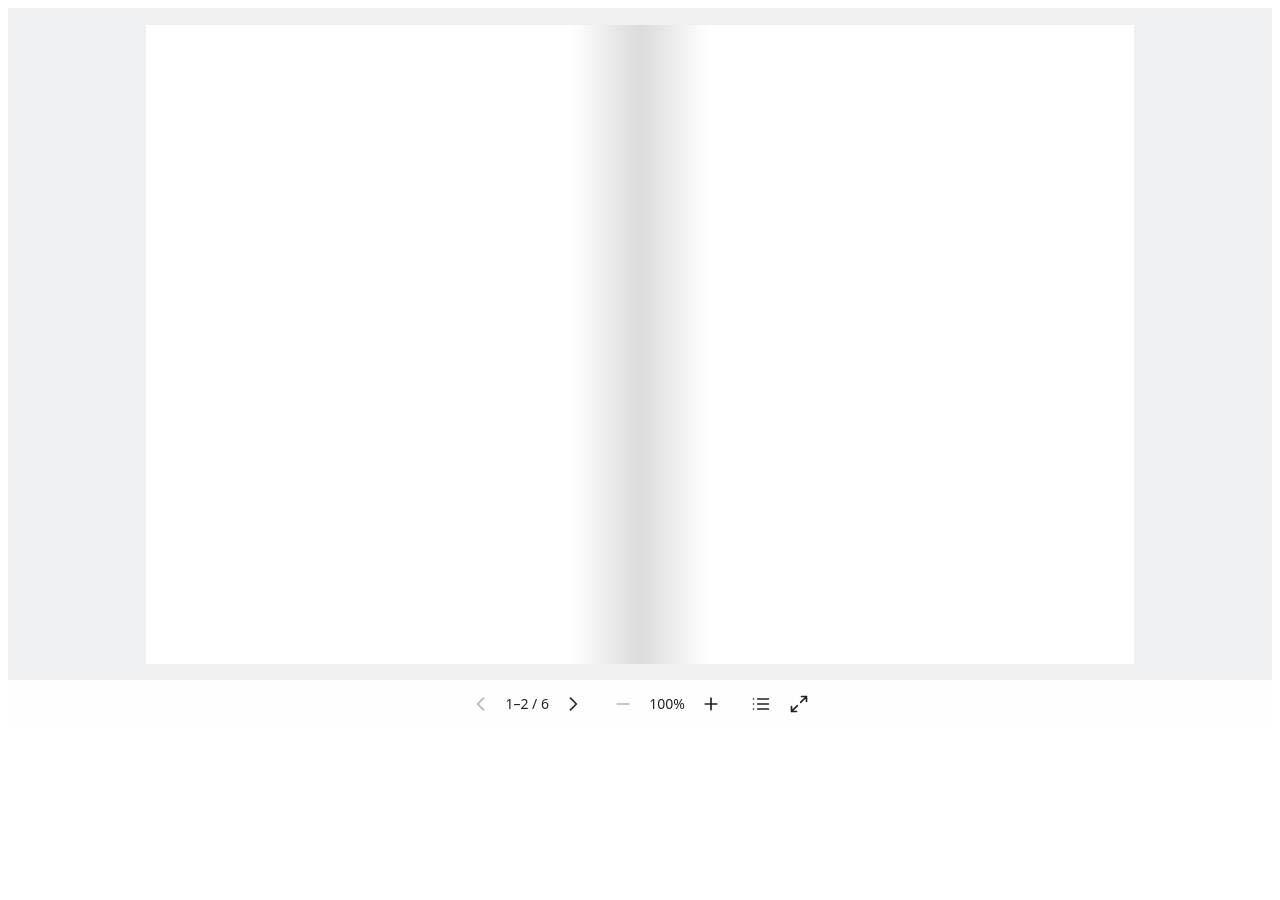
Test: contents panel › shows web entries as safe links and drops unsafe ones
Click the button named "Contents": (761, 704) top-left (743, 686), bottom-right (779, 722)
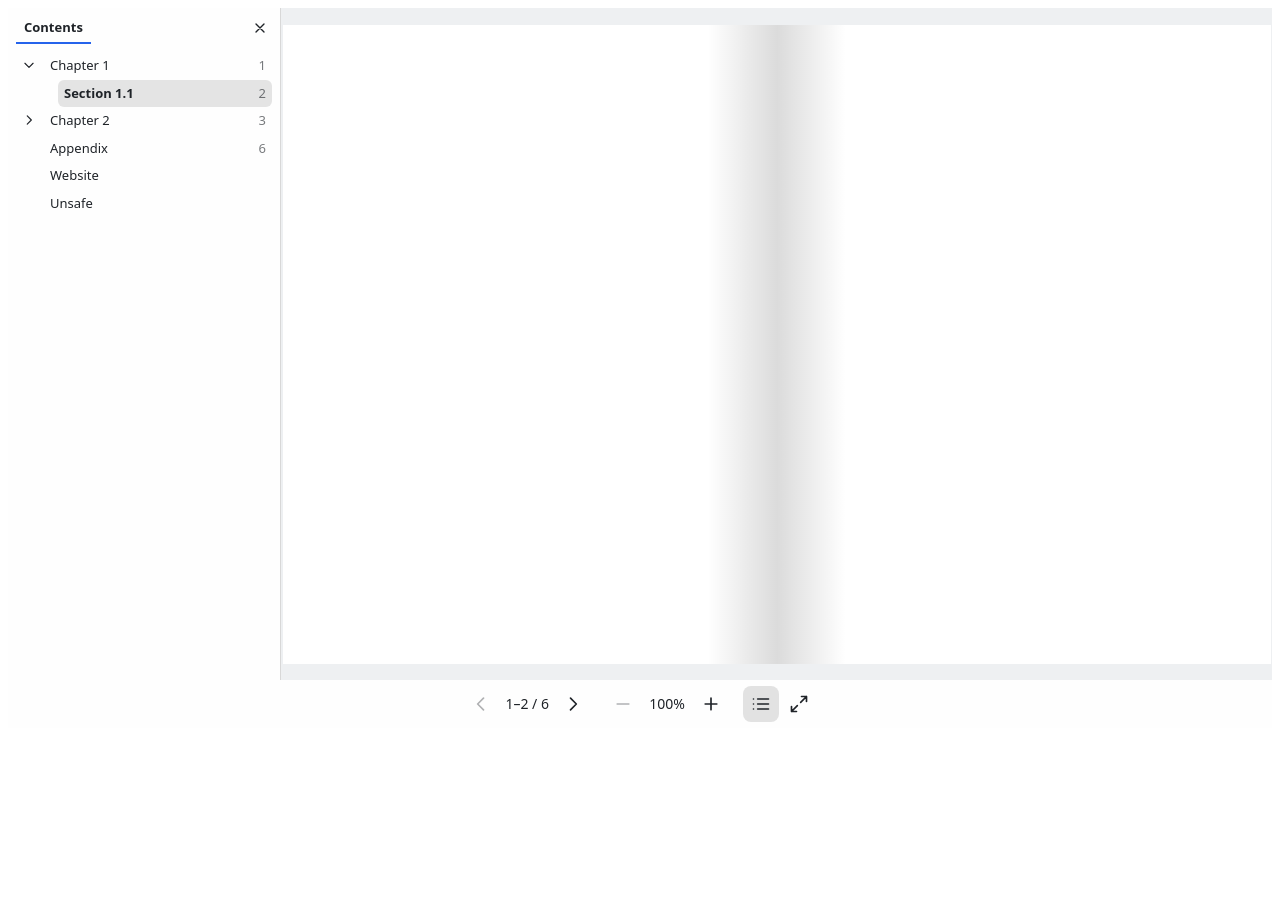
Check: the text "Unsafe" is shown, box top-left (50, 195), bottom-right (93, 212)
